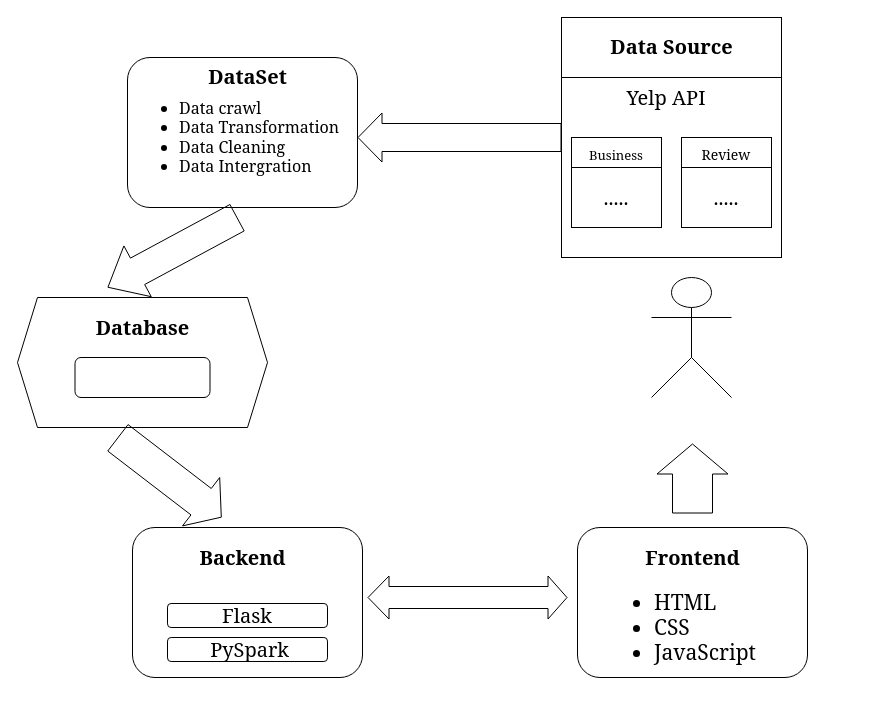
Image size: 870x704. Some labels were removed from this diagram. The shapes that lost their labels are listed below. From the top down, each one's box as (x1, y1, x2, y2) in pixels, then its label:
(650, 276, 732, 398): User
(74, 356, 210, 398): MySQL
